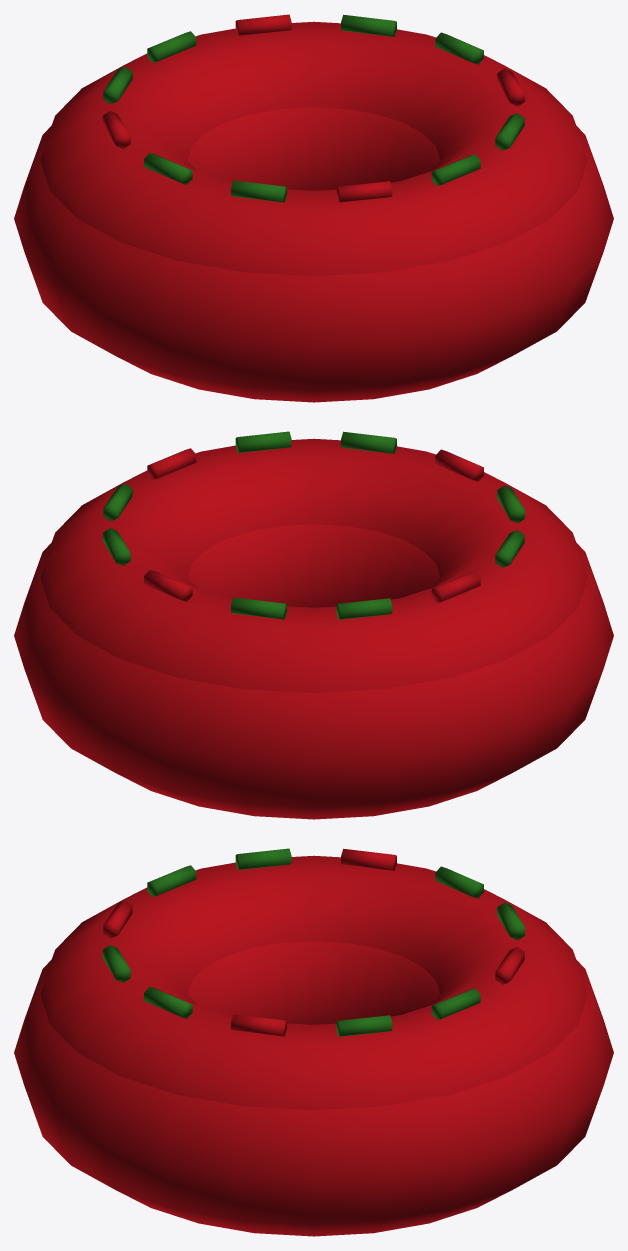
File: donut.fbx
The picture shows the model from 3 angles, top to bottom: view 1: azimuth 30°, elevation 25°; view 2: azimuth 150°, elevation 25°; view 3: azimuth 270°, elevation 25°; orthographic projection.
Visible parts, largest first — view 1: donut; view 2: donut; view 3: donut.
Part boxes in pixels (x1,y1,x2,y2): donut: [14, 14, 613, 402]; donut: [14, 431, 613, 819]; donut: [14, 848, 613, 1236].
Size of the model in its own units: 100 by 37.58 by 100.
